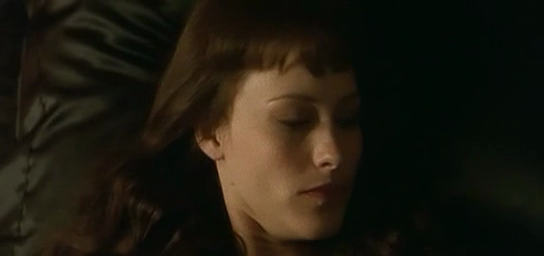cu: (1, 1, 544, 256)
face: (242, 63, 365, 240)
person: (102, 1, 391, 256)
